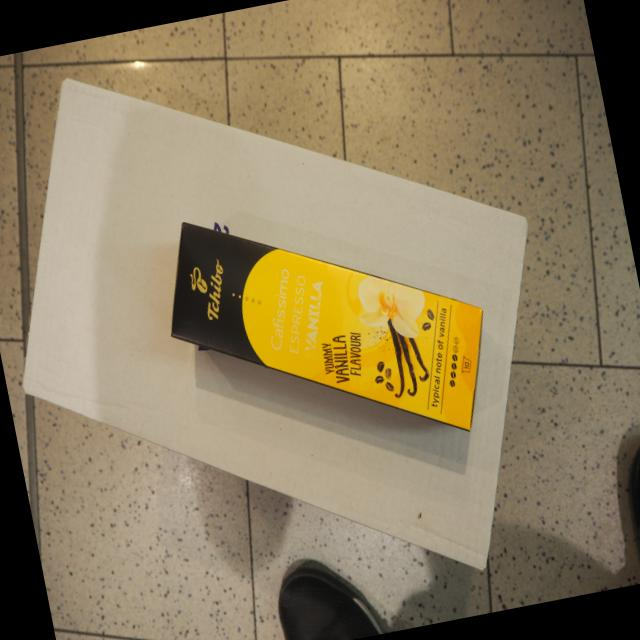Simo Es Vanilla: (166, 218, 485, 436)
